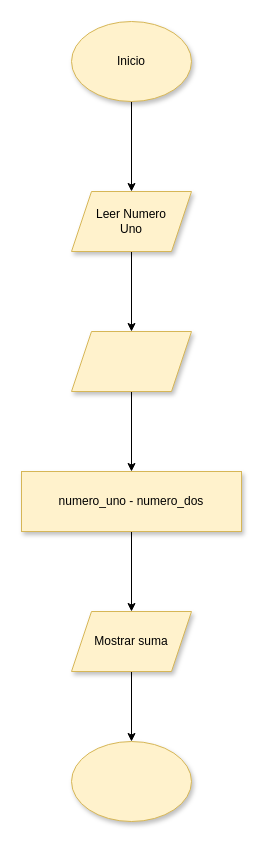
Some shapes in this 265 by 846 pixel diagram are drawn without their labels. The centre of each missing label's shape, as x and y in pixels:
Fin: point 132,782
Leer Numero dos: point 132,362
